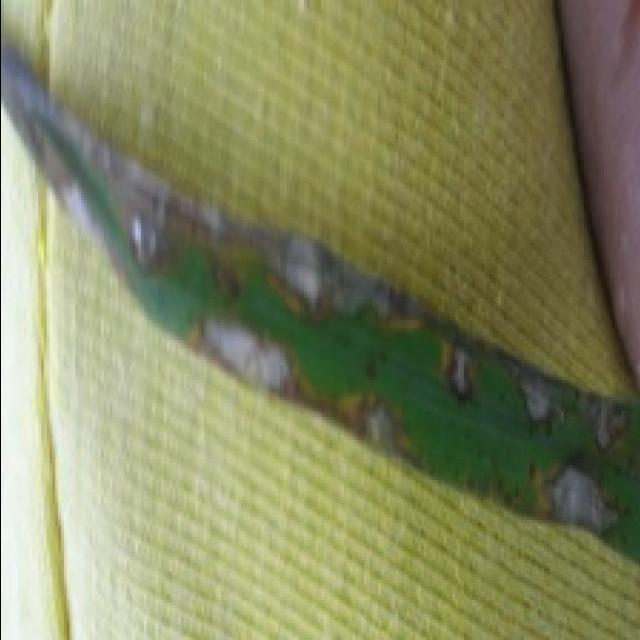Unhealthy: (0, 45, 484, 406), (178, 315, 418, 467), (489, 345, 571, 434), (540, 462, 623, 540), (587, 399, 629, 454)
